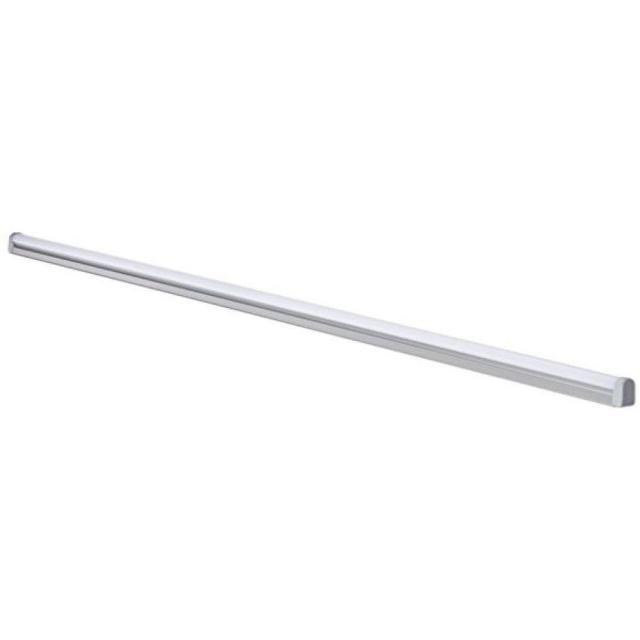tubelight_off: (2, 225, 640, 420)
